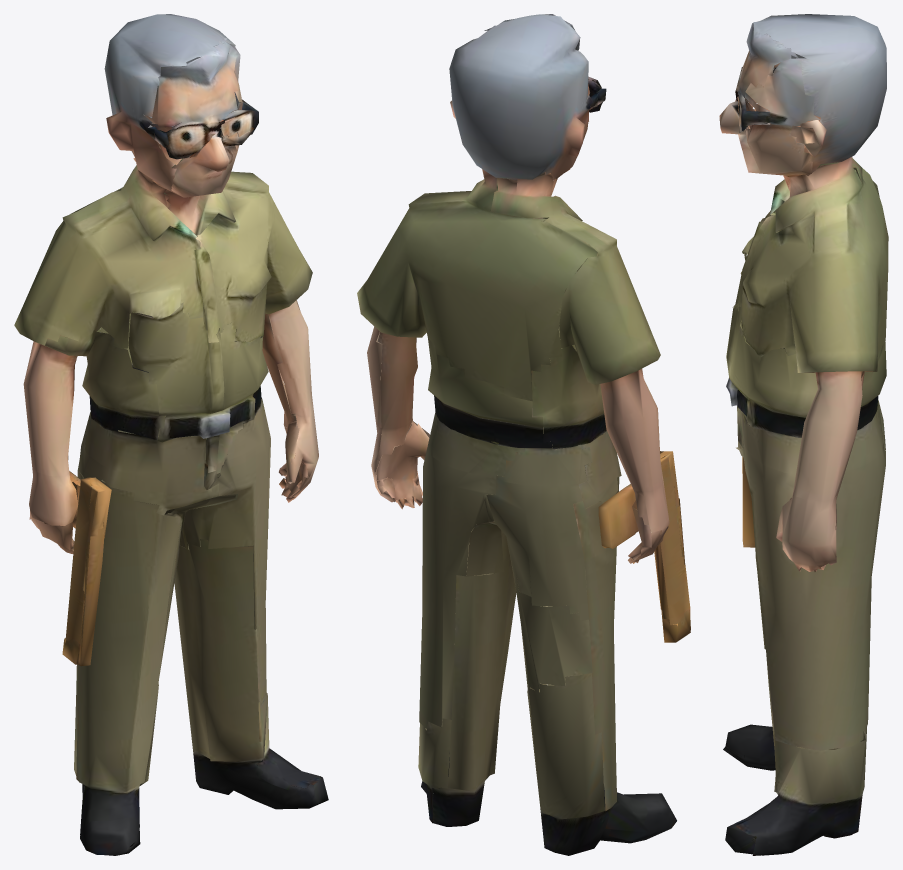
Rendered from npc_guru_bp.glb.
3 renders of one model, left to right at view 1: azimuth 30°, elevation 25°; view 2: azimuth 150°, elevation 25°; view 3: azimuth 270°, elevation 25°, orthographic. The views are drawn at different scales.
Parts seen in each view (by area): view 1: torso, leg_r, leg_l; view 2: torso, leg_r, leg_l; view 3: torso, leg_l, leg_r.
Boxes of the visible parts, left/top/right/bottom form: torso: left=14, top=14, right=313, bottom=492; leg_r: left=29, top=430, right=214, bottom=855; leg_l: left=158, top=400, right=328, bottom=809; torso: left=357, top=14, right=672, bottom=491; leg_r: left=483, top=448, right=690, bottom=855; leg_l: left=371, top=418, right=555, bottom=826; torso: left=719, top=14, right=888, bottom=501; leg_l: left=725, top=436, right=885, bottom=855; leg_r: left=723, top=421, right=885, bottom=770.
Bounding box in the file's own units: 0.6405 × 1.65 × 0.3236.
1 material, 1 textured.
